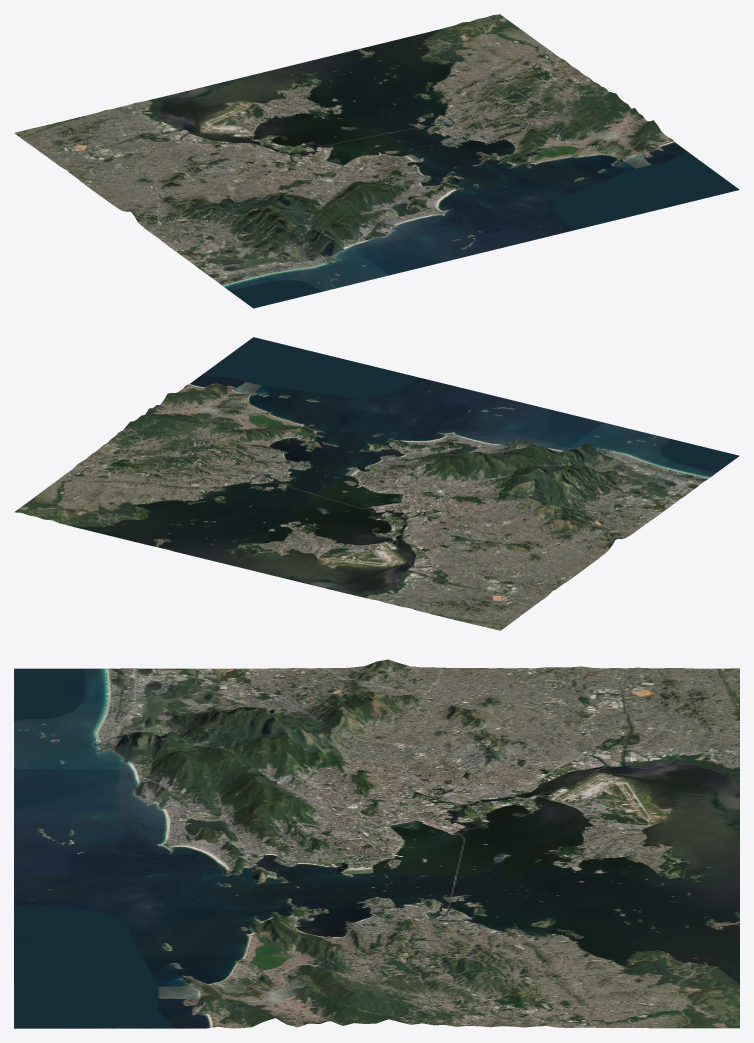
The model's file is rio.glb.
3 renders of one model, top to bottom at view 1: azimuth 30°, elevation 25°; view 2: azimuth 150°, elevation 25°; view 3: azimuth 270°, elevation 25°, orthographic. The views are drawn at different scales.
Parts seen in each view (by area): view 1: skfb_offset; view 2: skfb_offset; view 3: skfb_offset.
Boxes of the visible parts, x1,y1,x2,y2 form: skfb_offset: (14,14,739,308); skfb_offset: (14,337,739,630); skfb_offset: (14,659,739,1028).
Size of the model in its own units: 41593 by 1904 by 35469.
Materials: 1 (1 with a texture image).
